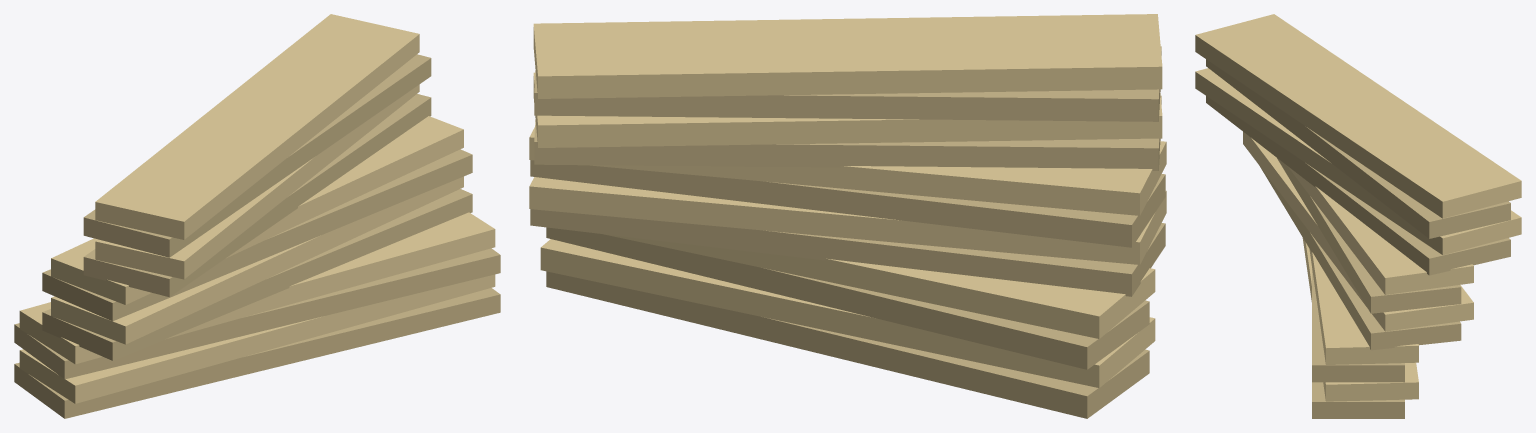
Rendered from Plank_Light.fbx.
The picture shows the model from 3 angles, left to right: view 1: azimuth 30°, elevation 25°; view 2: azimuth 150°, elevation 25°; view 3: azimuth 270°, elevation 25°; orthographic projection. The views are drawn at different scales.
Parts seen in each view (by area): view 1: Plank_Light__Stack, Plank_Light; view 2: Plank_Light__Stack, Plank_Light; view 3: Plank_Light__Stack, Plank_Light.
Boxes of the visible parts, box(x1,y1,x2,y2) form: Plank_Light__Stack: box(42, 14, 472, 360); Plank_Light: box(14, 212, 500, 418); Plank_Light__Stack: box(529, 14, 1166, 296); Plank_Light: box(540, 227, 1155, 418); Plank_Light__Stack: box(1195, 14, 1521, 350); Plank_Light: box(1302, 238, 1418, 418).
Bounding box in the file's own units: 0.3055 × 0.151 × 0.2102.
